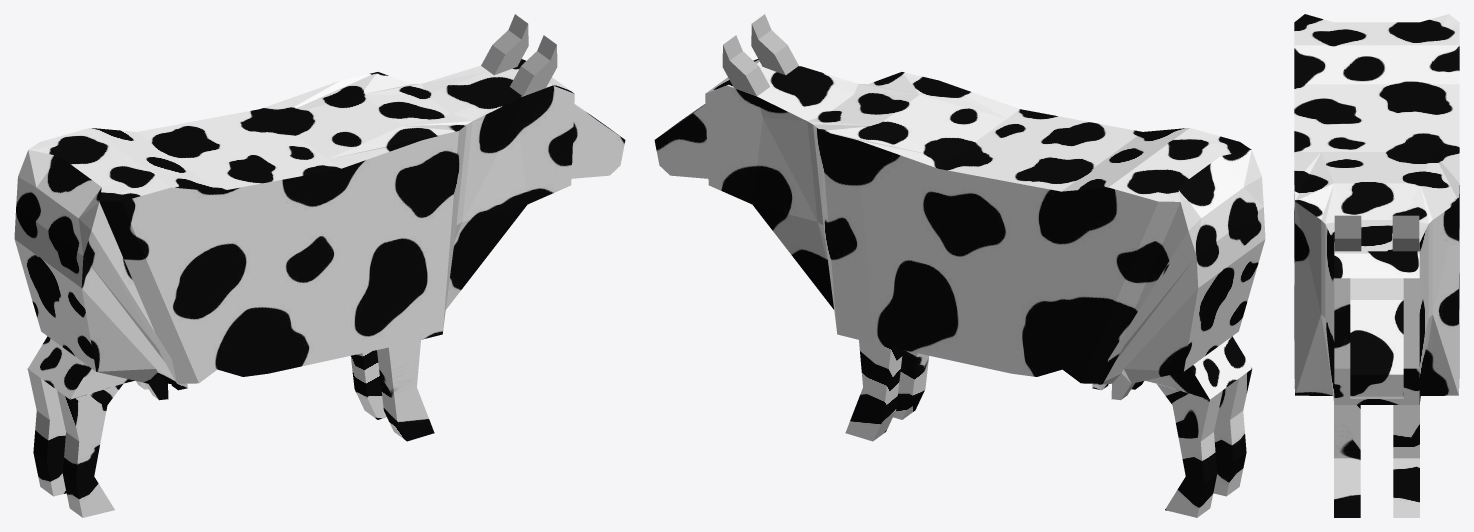
File: cow.fbx
The picture shows the model from 3 angles, left to right: view 1: azimuth 30°, elevation 25°; view 2: azimuth 150°, elevation 25°; view 3: azimuth 270°, elevation 25°; orthographic projection.
Visible parts, largest first — view 1: cow; view 2: cow; view 3: cow.
Part boxes in pixels (x1,y1,x2,y2): cow: (14,14,625,517); cow: (654,14,1265,517); cow: (1294,14,1459,517).
Size of the model in its own units: 360 by 219 by 90.06.
